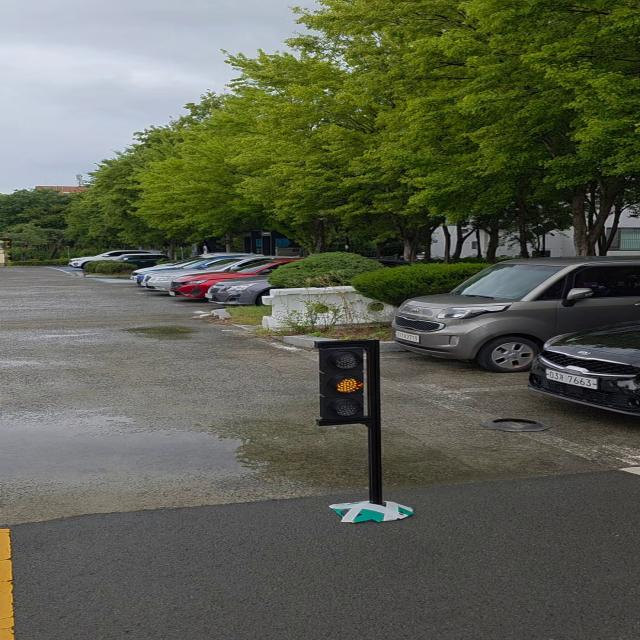yellow: (311, 342, 378, 426)
